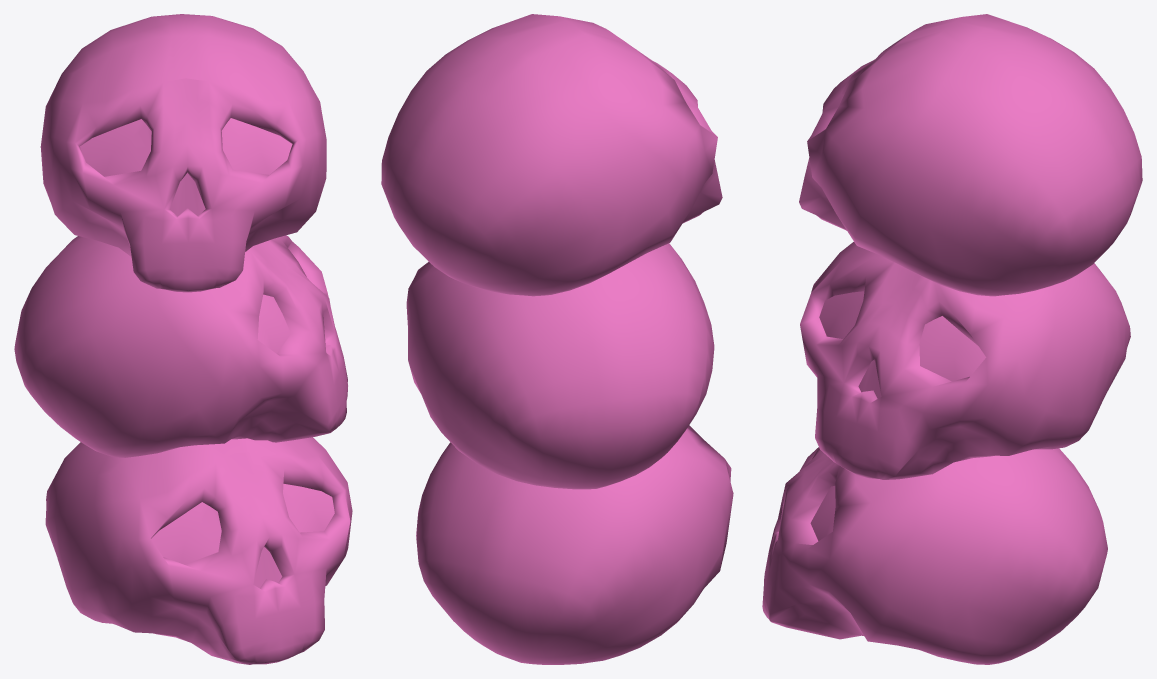
The model's file is INT_StackedSkulls.fbx.
The picture shows the model from 3 angles, left to right: view 1: azimuth 30°, elevation 25°; view 2: azimuth 150°, elevation 25°; view 3: azimuth 270°, elevation 25°; orthographic projection. The views are drawn at different scales.
Parts seen in each view (by area): view 1: m_StackedSkulls; view 2: m_StackedSkulls; view 3: m_StackedSkulls.
Boxes of the visible parts, x1=… form: m_StackedSkulls: x1=14, y1=14, x2=352, y2=664; m_StackedSkulls: x1=381, y1=14, x2=733, y2=664; m_StackedSkulls: x1=762, y1=14, x2=1142, y2=664.
Size of the model in its own units: 254 by 507 by 286.
